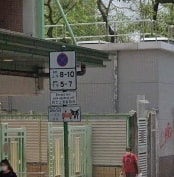Start Of No Stopping: (50, 51, 78, 91)
